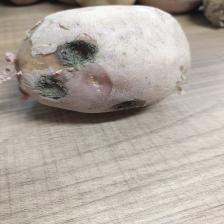Damaged potato: (7, 4, 196, 120)
